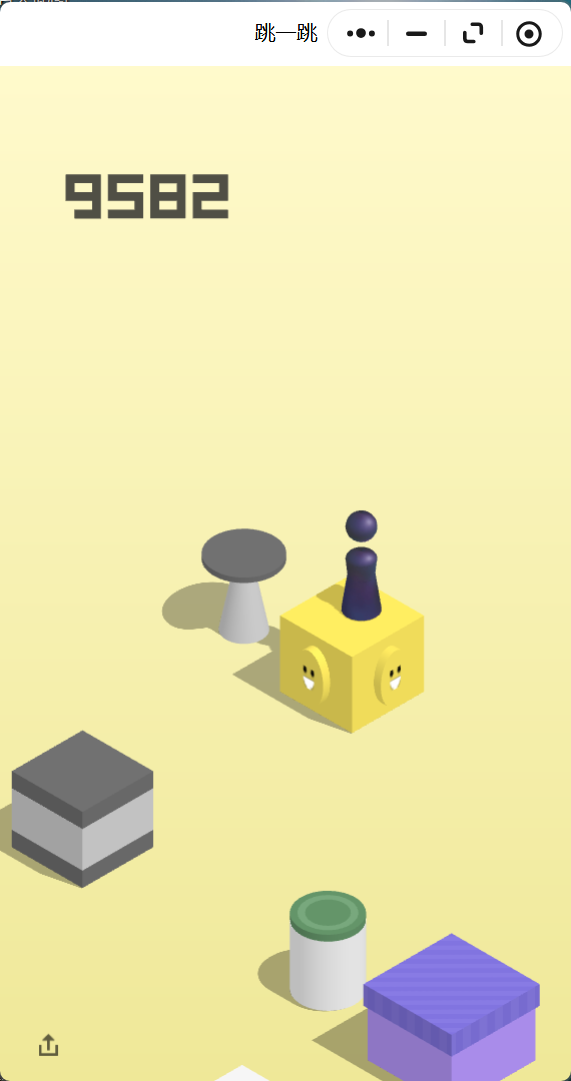piece: (346, 510, 376, 618)
target: (201, 529, 286, 579)
